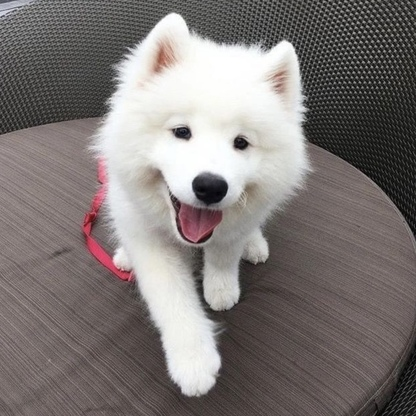samoyed: (87, 9, 320, 402)
